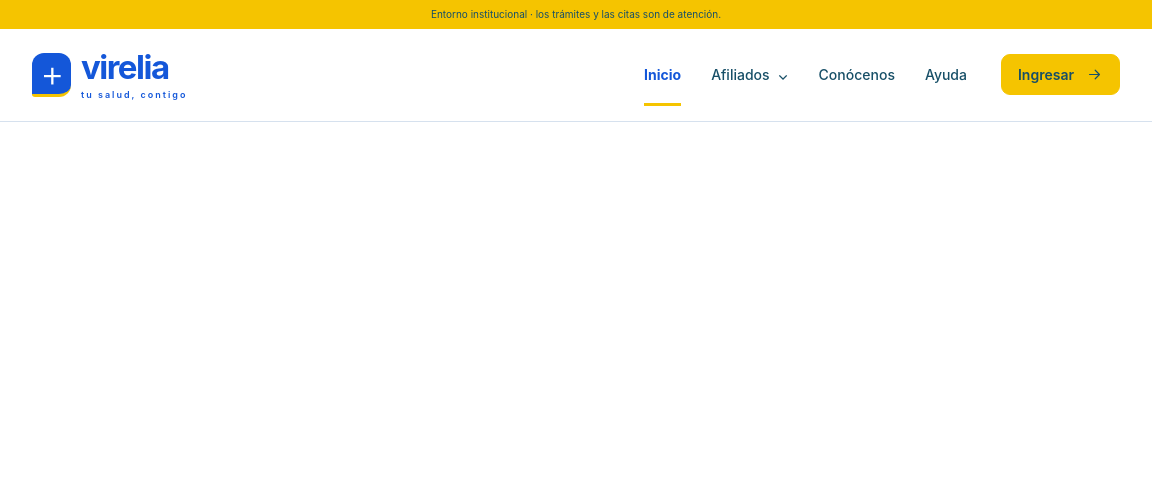
Test: navegación BOGOBIKER adaptada: el menú distingue las cuatro tareas
The width and height of the screenshot is (1152, 488).
Later steps or results of the test are not shown.
Click the button "Afiliados ⌄" at [750, 75], box [711,43,789,106]
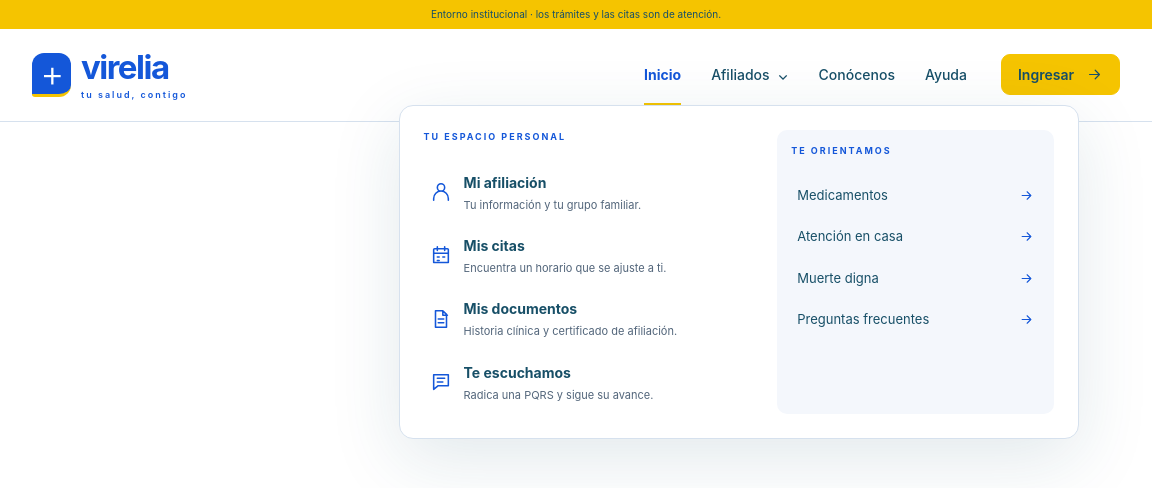
Now the text "Mi afiliación" is shown, box [464,174,546,191]
Now the text "Mis citas" is shown, box [464,237,525,254]
Now the text "Mis documentos" is shown, box [464,300,577,317]
